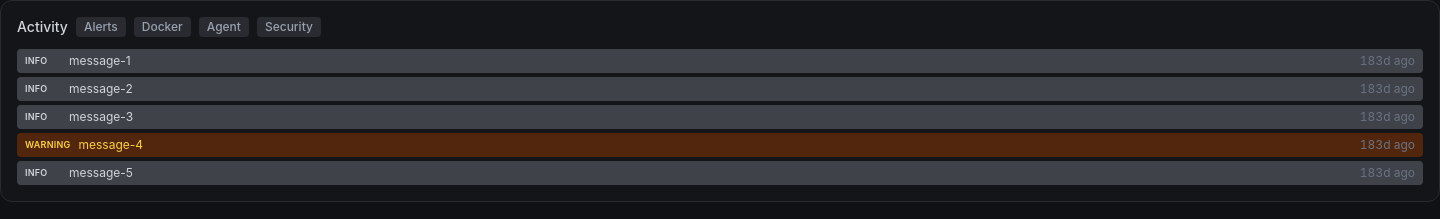
[AC-026] ActivityRiver — chip filter multiselect with eventCategory mapping (FR-054) › filters to agent events when agent chip is active
Step 1. Click the button with test id "river-chip-agent" → (224, 27), box x1=199 y1=17 x2=249 y2=37
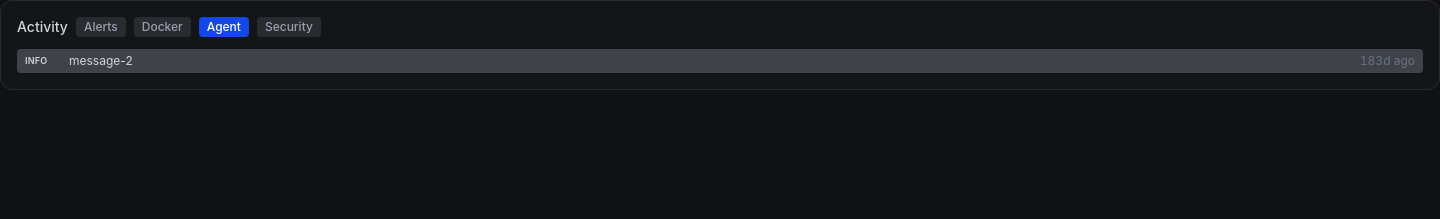
Check: the list item with test id "river-event-2" is shown, box x1=17 y1=49 x2=1423 y2=73
Check: the list item with test id "river-event-1" is gone
